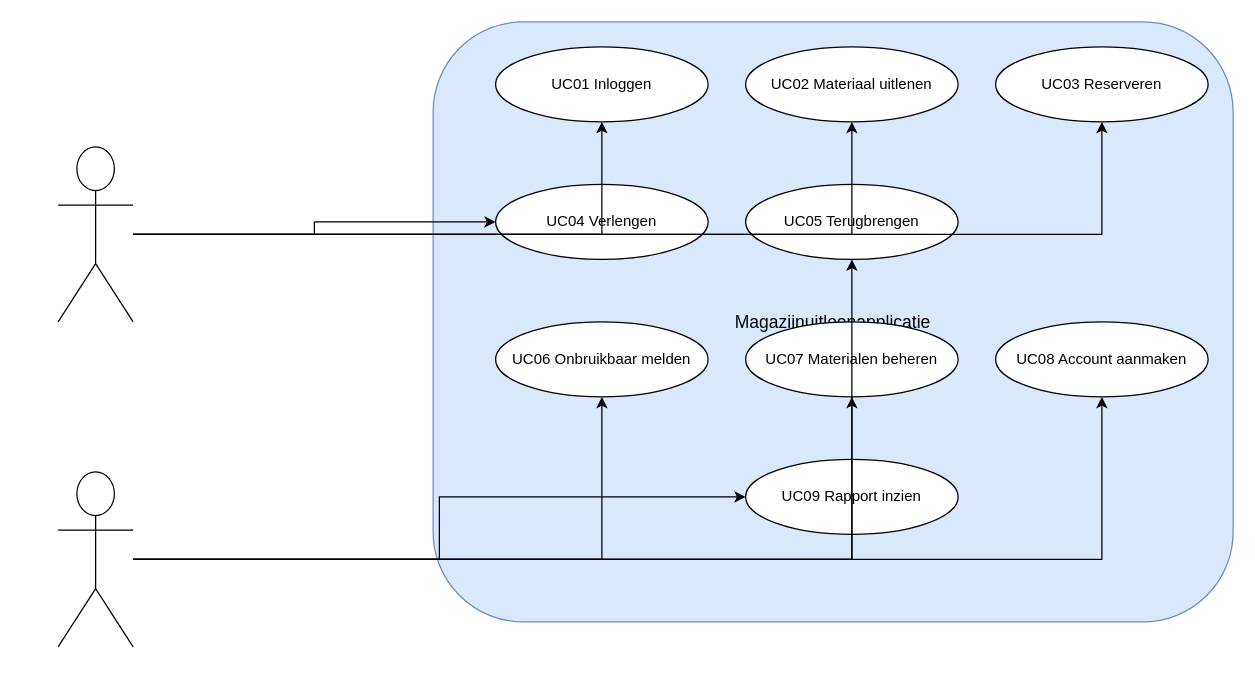
This 1255x698 diagram has some shape labels left out. The shapes that lost their labels are listed below. From the top down, each one's box as (x1, y1, x2, y2) in pixels, then its label:
(57, 146, 133, 322): Student
(57, 471, 133, 647): Magazijnier / Docent
